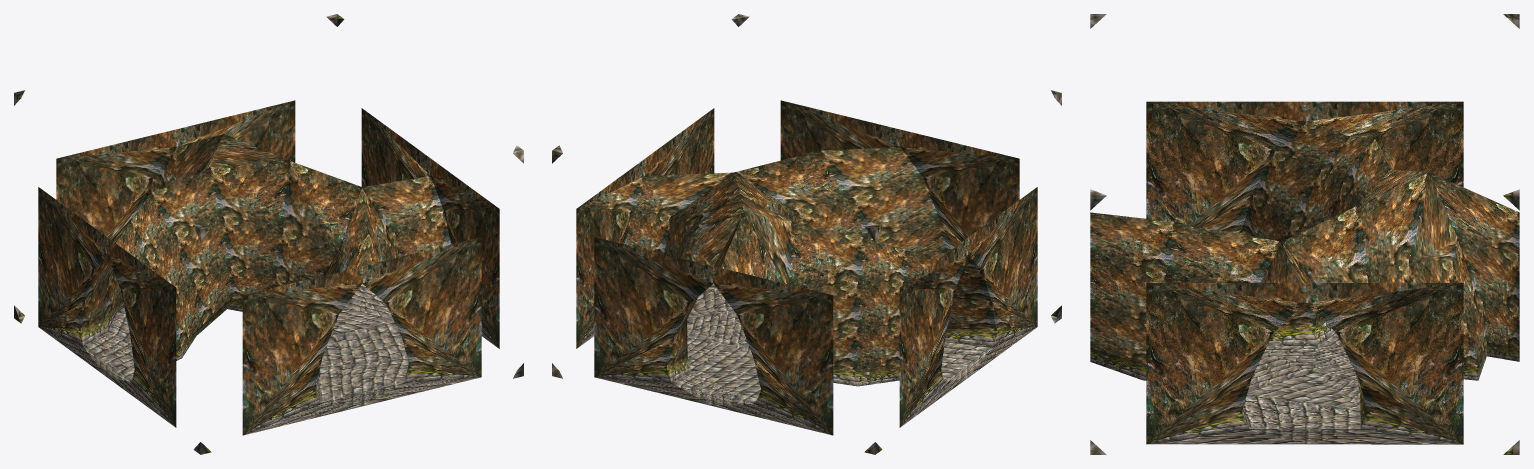
File: lbc_4b.glb
The picture shows the model from 3 angles, left to right: view 1: azimuth 30°, elevation 25°; view 2: azimuth 150°, elevation 25°; view 3: azimuth 270°, elevation 25°; orthographic projection. The views are drawn at different scales.
Visible parts, largest first — view 1: lbc_4b; view 2: lbc_4b; view 3: lbc_4b.
Part boxes in pixels (bbox=[...]): lbc_4b: bbox=[14, 14, 523, 454]; lbc_4b: bbox=[552, 14, 1061, 454]; lbc_4b: bbox=[1090, 14, 1519, 454].
Size of the model in its own units: 15 by 10 by 15.
Materials: 3 (3 with a texture image).
